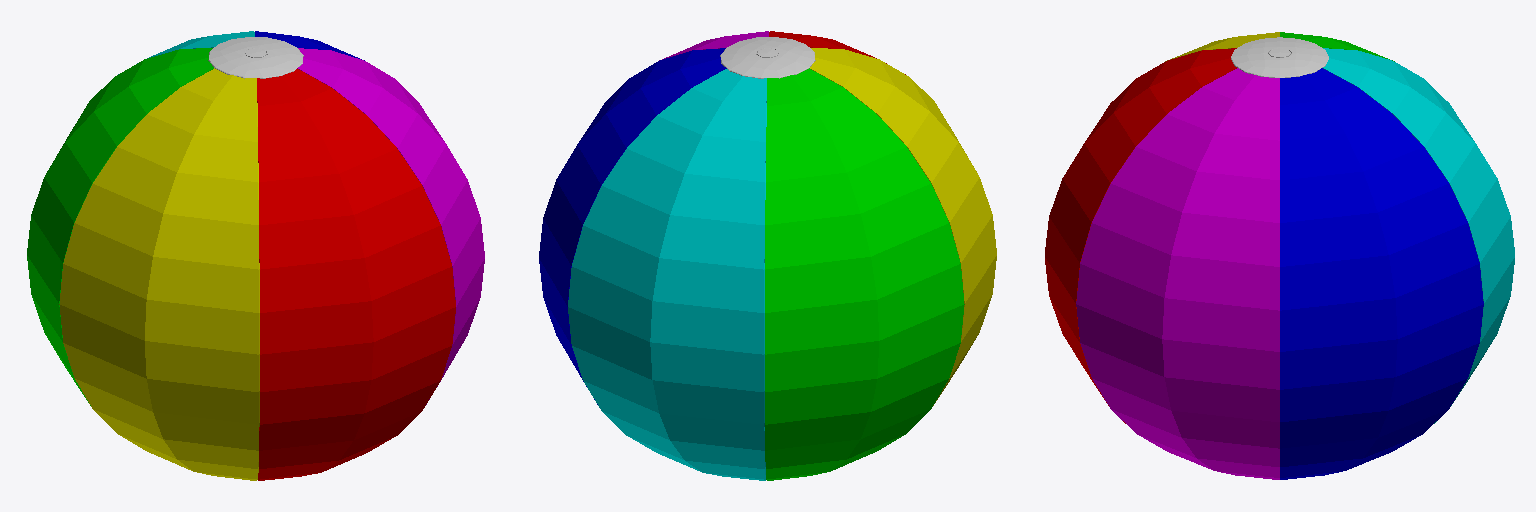
Rendered from beach-ball.obj.
The picture shows the model from 3 angles: view 1: azimuth 30°, elevation 25°; view 2: azimuth 150°, elevation 25°; view 3: azimuth 270°, elevation 25°; orthographic projection.
Visible parts, largest first — view 1: g_BeachBall_Sphere.001; view 2: g_BeachBall_Sphere.001; view 3: g_BeachBall_Sphere.001.
Part boxes in pixels (left/top/right/bottom): g_BeachBall_Sphere.001: left=27, top=31, right=484, bottom=480; g_BeachBall_Sphere.001: left=539, top=31, right=996, bottom=480; g_BeachBall_Sphere.001: left=1045, top=32, right=1514, bottom=479.
Bounding box in the file's own units: 3.54 × 3.5 × 3.67.